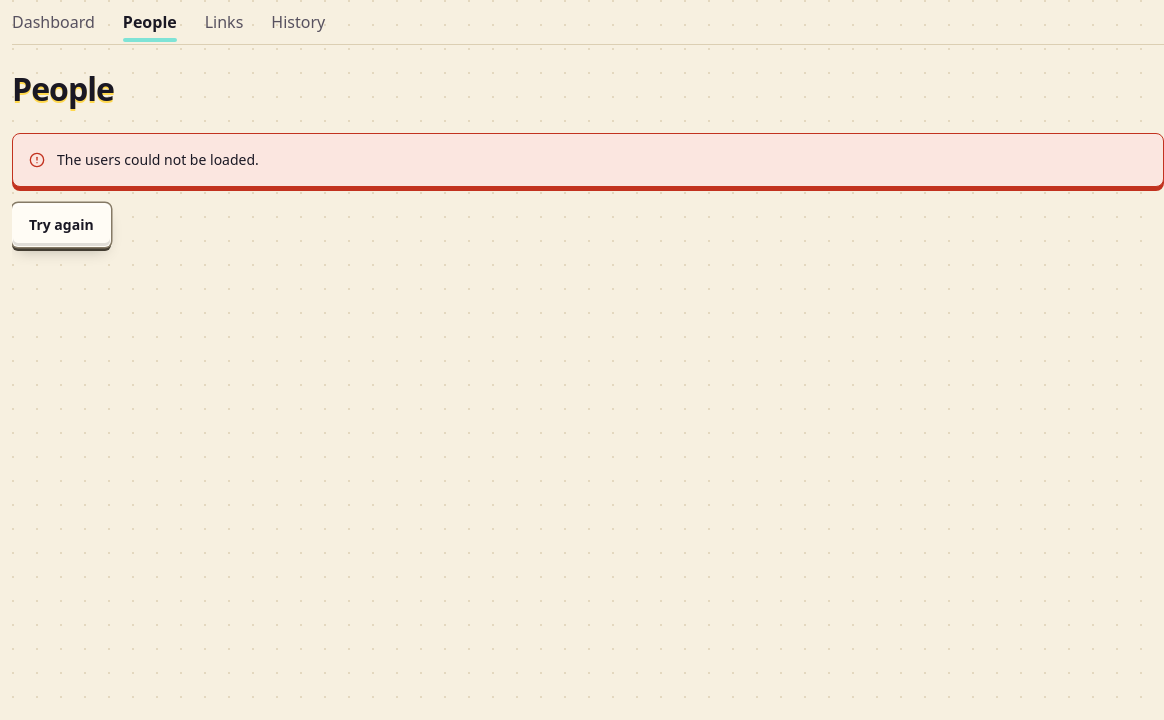
Test case: PeoplePage › shows a load failure with Retry under the page heading
Check: the text "The users could not be loaded." is shown, box [57, 150, 259, 169]
Check: the heading reads "People", box [12, 67, 114, 110]
Click the button "Try again": (61, 225) [12, 203, 111, 247]
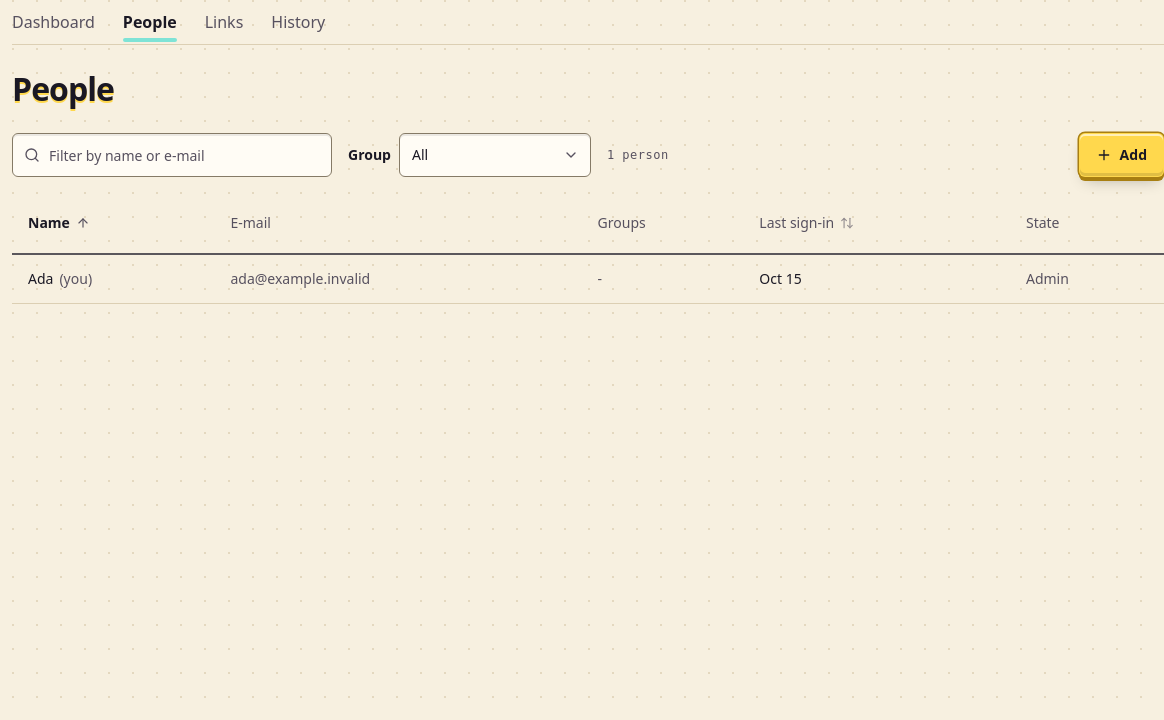
Check: the link "Ada" is shown, box [28, 269, 53, 288]
